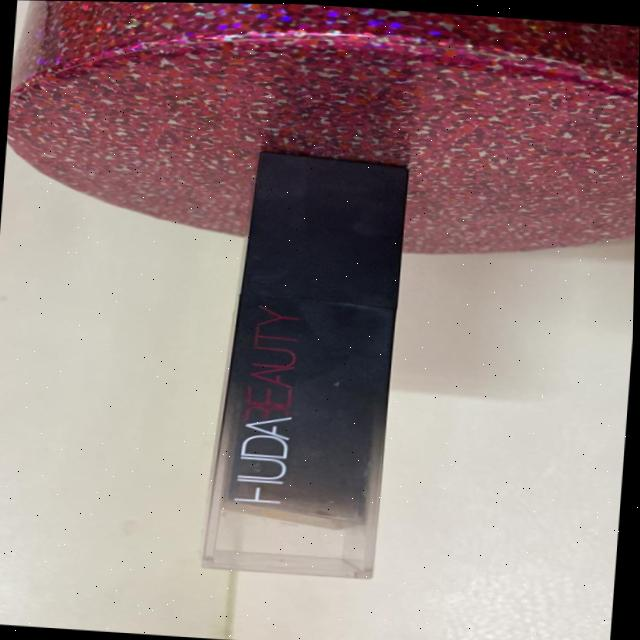foundation: (200, 150, 424, 586)
